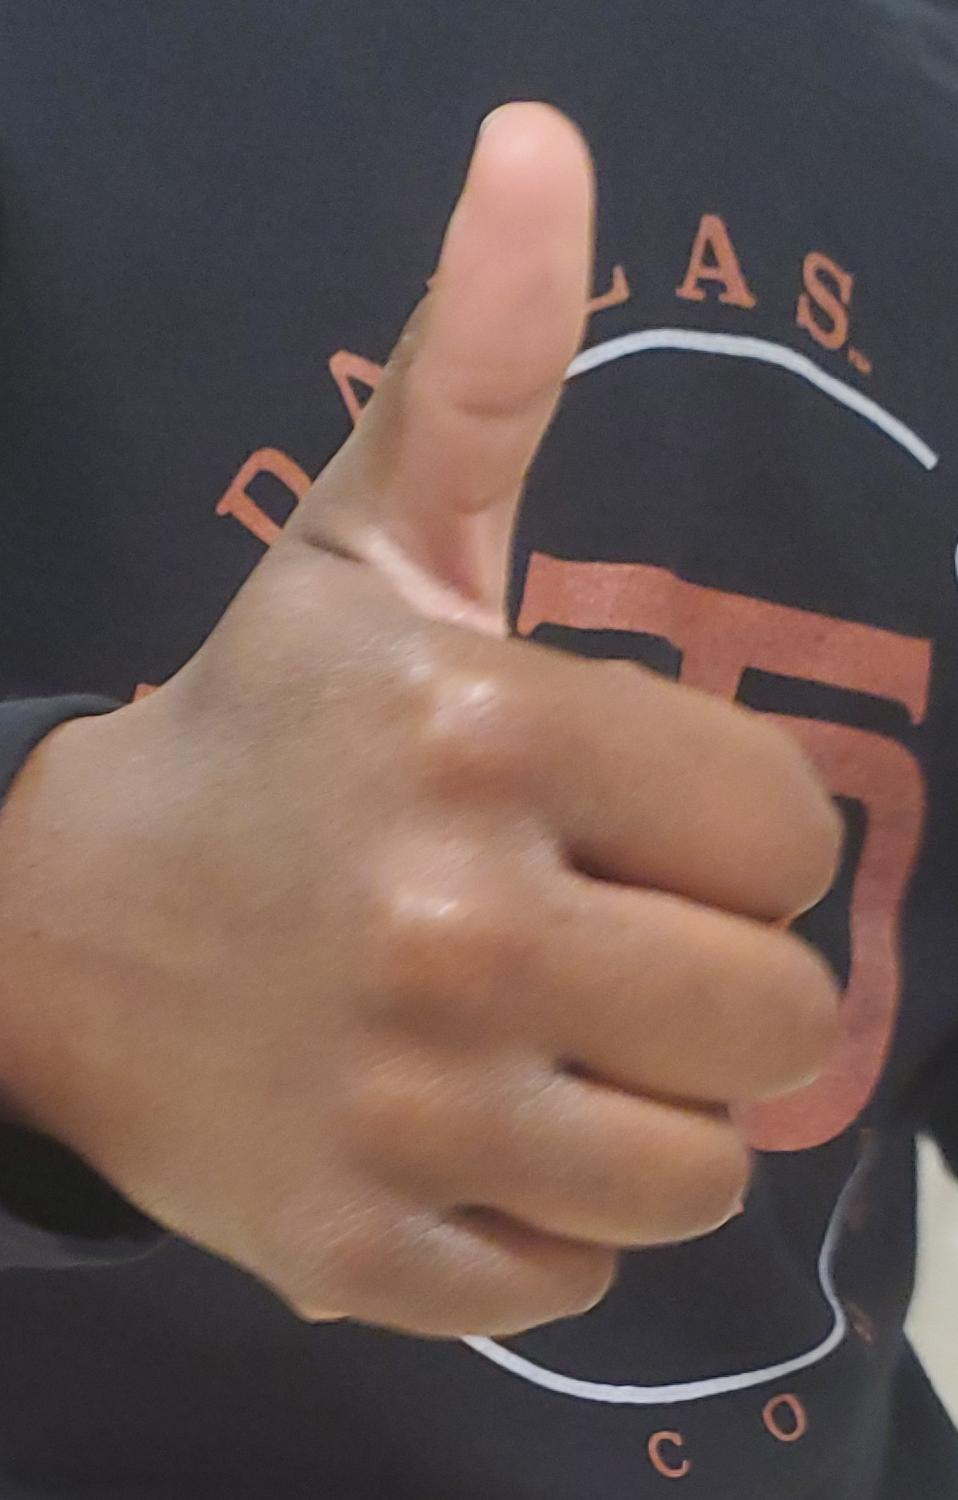up: (0, 1, 958, 1500)
